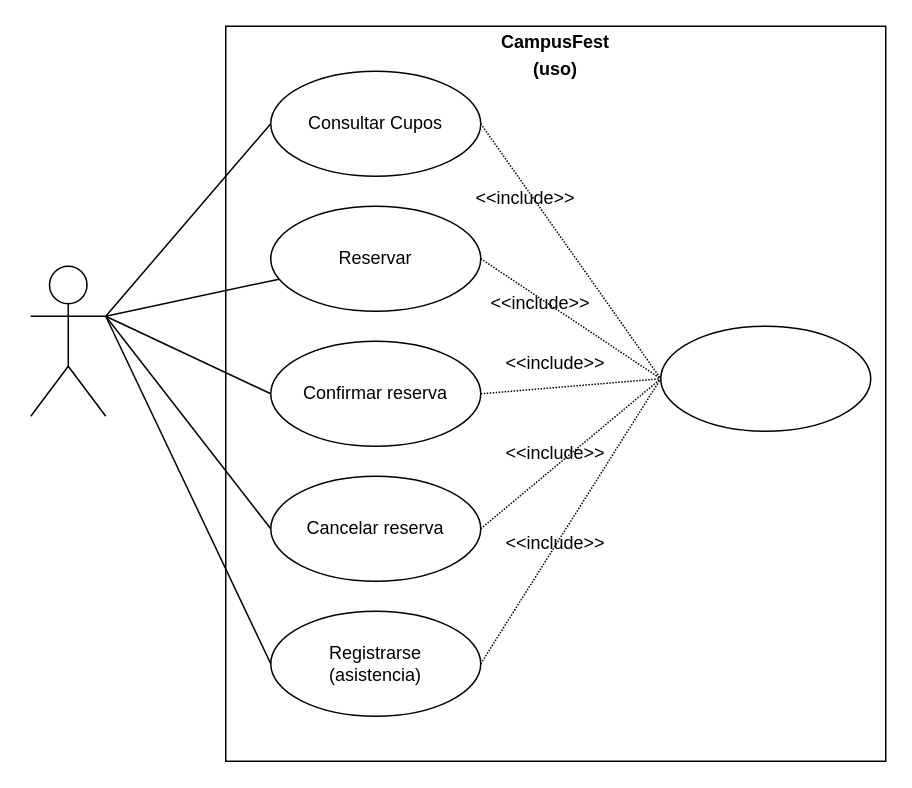
The diagram is 912 pixels wide and 788 high, and some of its shapes have lost their labels. The box of each missing label's shape, as (x1, y1, x2, y2) in pixels:
Consultar eventos: (659, 325, 871, 431)
Estudiante: (29, 265, 106, 416)
